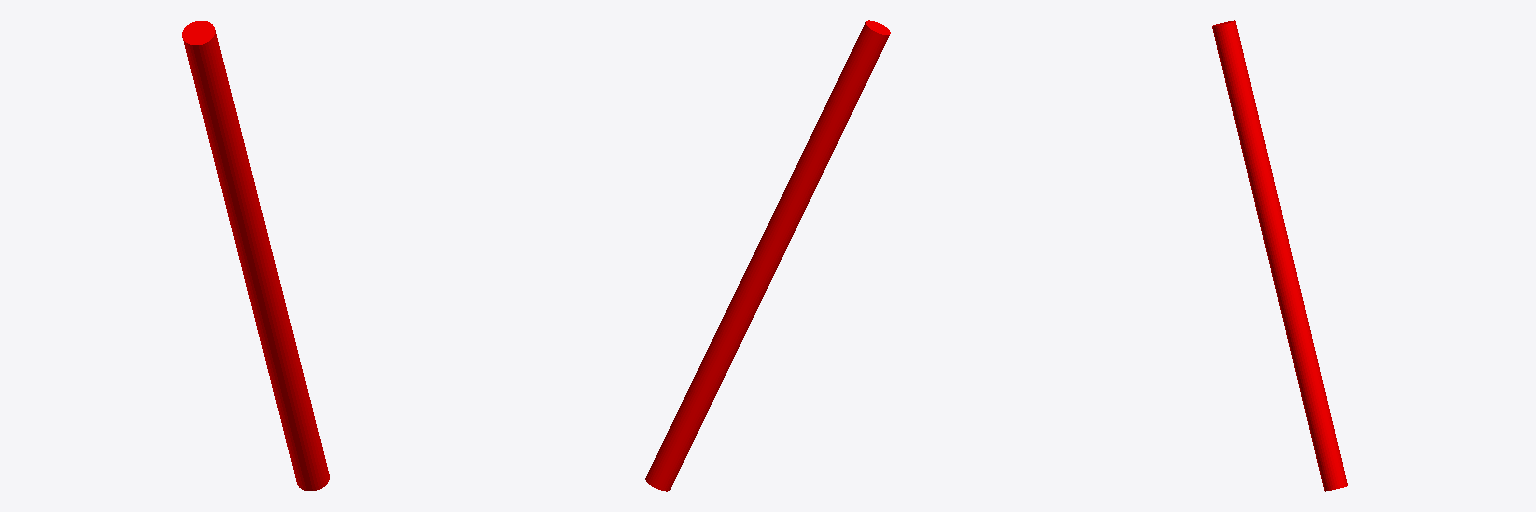
URDF robot description (tree_72.urdf):
<?xml version='1.0' encoding='utf-8'?>
<robot name="tree_72.urdf">
  <link name="branch_0">
    <inertial>
      <origin xyz="0.0 0.0 0.0" rpy="0.0 -0.0 0.0" />
      <mass value="1.0" />
      <inertia ixx="1.0" ixy="0.0" ixz="0.0" iyy="1.0" iyz="0.0" izz="1.0" />
    </inertial>
    <visual name="branch_0_visual">
      <geometry>
        <cylinder radius="0.06262695438355277" length="2.468731840277898" />
      </geometry>
      <material name="semantic_material" />
      <origin xyz="-0.4125968238310932 -0.2894208924999274 1.126791299553521" rpy="-6.816791475289752e-17 0.4205848652778752 -2.529886318575587" />
    </visual>
    <collision name="branch_0_collision">
      <geometry>
        <cylinder radius="0.06262695438355277" length="2.468731840277898" />
      </geometry>
      <origin xyz="-0.4125968238310932 -0.2894208924999274 1.126791299553521" rpy="-6.816791475289752e-17 0.4205848652778752 -2.529886318575587" />
    </collision>
  </link>
  <material name="semantic_material">
    <color rgba="1. 0. 0. 1." />
  </material>
</robot>

--- What the picture shows (computed from the rendered views, not written in the file) ---
Views: 3 orthographic renders of the robot side by side, from view 1: azimuth 30°, elevation 25°; view 2: azimuth 150°, elevation 25°; view 3: azimuth 270°, elevation 25°.
Robot: tree_72.urdf — 1 links, 0 joints (none); root link branch_0; default pose: all joints at 0.
Visible links, largest first — view 1: branch_0; view 2: branch_0; view 3: branch_0.
Link boxes in pixels (x1,y1,x2,y2): branch_0: (182,21,329,490); branch_0: (645,20,890,491); branch_0: (1212,20,1347,491).
Size in the robot's own frame: 0.943 by 0.7006 by 2.3 metres.
Geometry: primitives only (box / cylinder / sphere), no mesh files.